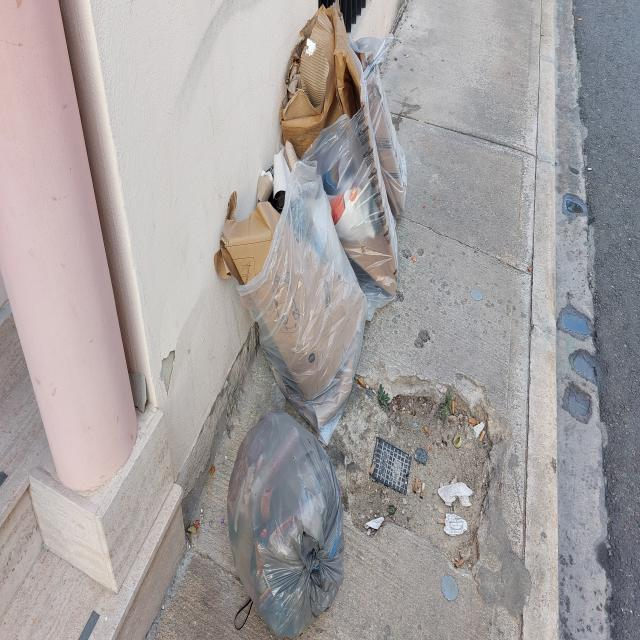Mixed Waste -Black Bag-: (221, 406, 361, 637)
Recycled Waste -Grey or Green Bag-: (214, 154, 388, 435), (281, 5, 403, 315), (353, 25, 409, 221)
